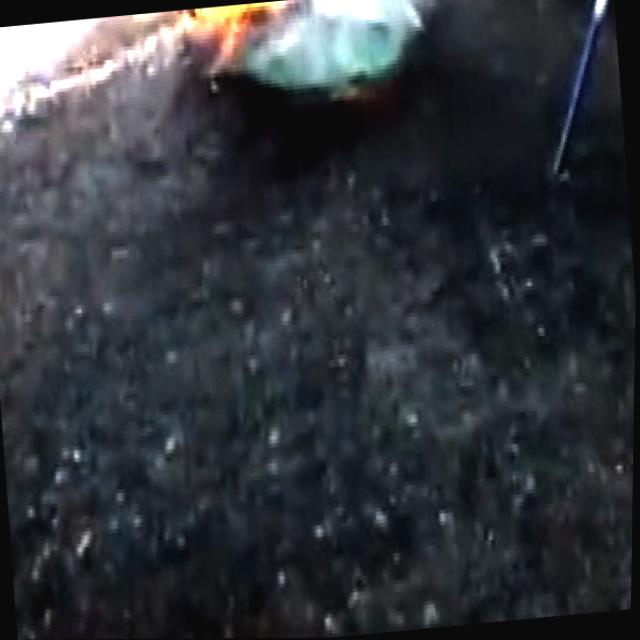fire: (205, 1, 275, 39)
smoke: (307, 0, 387, 25)
